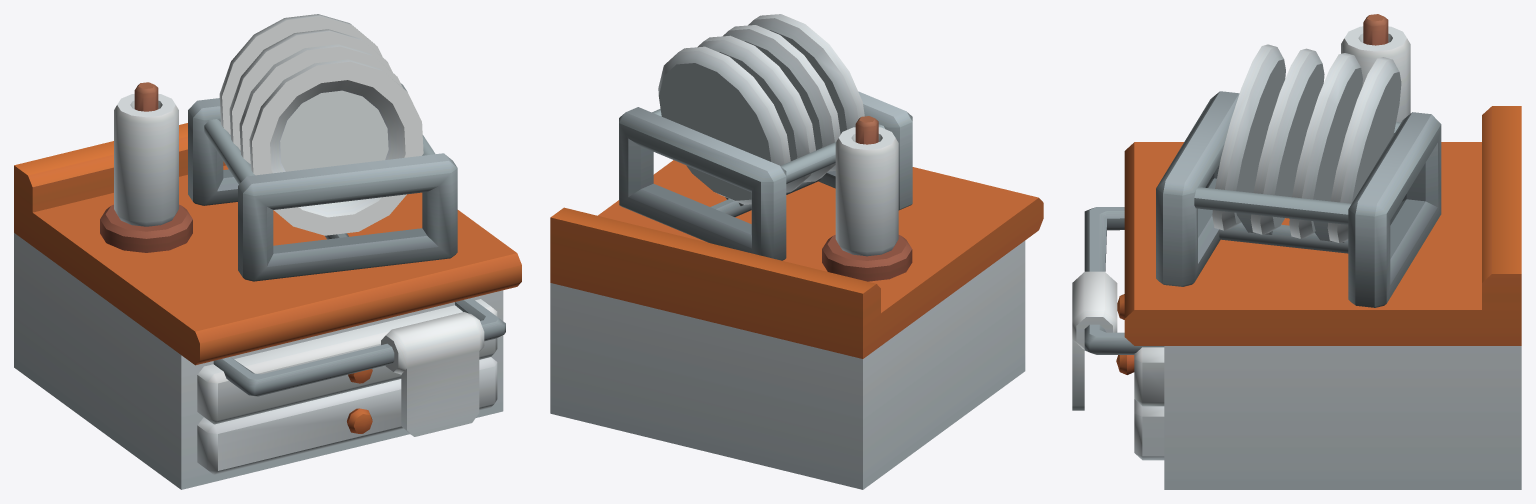
Rendered from plate_counter.glb.
3 renders of one model, left to right at view 1: azimuth 30°, elevation 25°; view 2: azimuth 150°, elevation 25°; view 3: azimuth 270°, elevation 25°, orthographic. The views are drawn at different scales.
Visible parts, largest first — view 1: kitchencounter_straight_A_backsplash, dishrack_plates, towelrail, papertowel; view 2: kitchencounter_straight_A_backsplash, dishrack_plates, papertowel; view 3: kitchencounter_straight_A_backsplash, dishrack_plates, towelrail, papertowel.
Boxes of the visible parts, x1,y1,x2,y2 form: kitchencounter_straight_A_backsplash: [14, 123, 521, 489]; dishrack_plates: [188, 14, 457, 281]; towelrail: [213, 298, 505, 436]; papertowel: [100, 82, 192, 252]; kitchencounter_straight_A_backsplash: [550, 160, 1043, 489]; dishrack_plates: [619, 14, 912, 260]; papertowel: [822, 116, 912, 281]; kitchencounter_straight_A_backsplash: [1116, 106, 1521, 489]; dishrack_plates: [1156, 44, 1441, 307]; towelrail: [1072, 207, 1164, 410]; papertowel: [1341, 14, 1410, 122].
Bounding box in the file's own units: 2 × 2.06 × 2.26.
3 materials, 3 textured.
